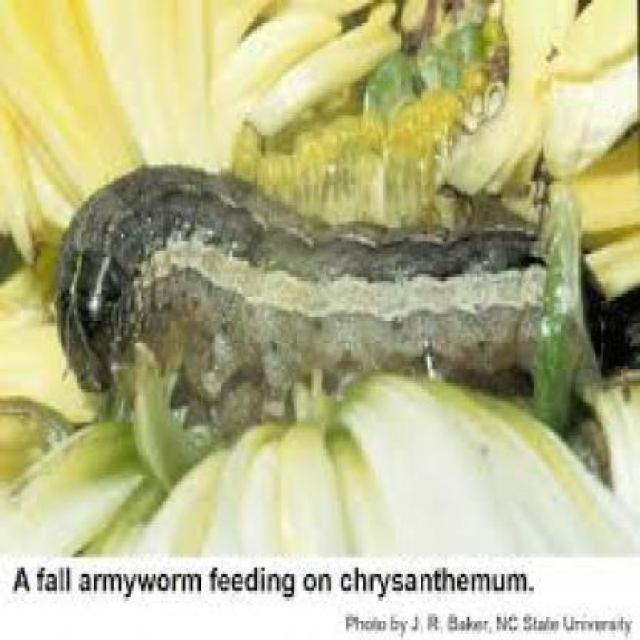Plaga: (44, 133, 603, 427)
